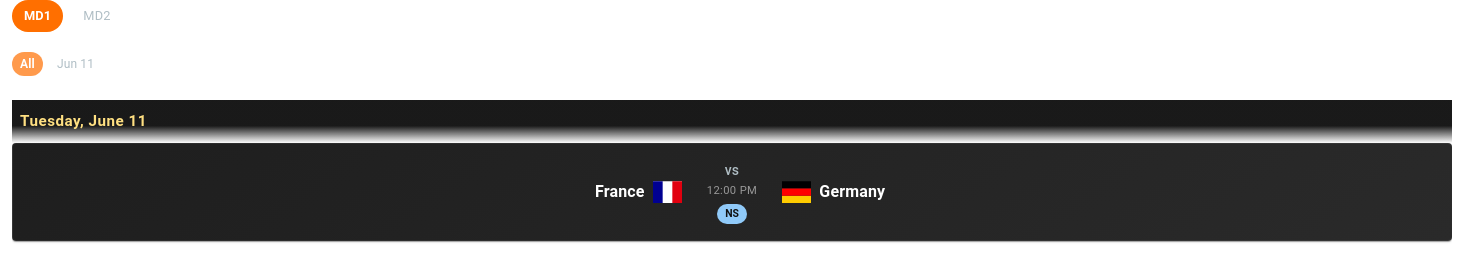
Scenario: SchedulePage › shows round empty state when no fixtures match round+date
This screenshot has width=1464, height=260.
Note: Click on MD2 (Group Stage - 2 — has only one fixture)
Click the button "MD2": (97, 16) [71,0,122,32]
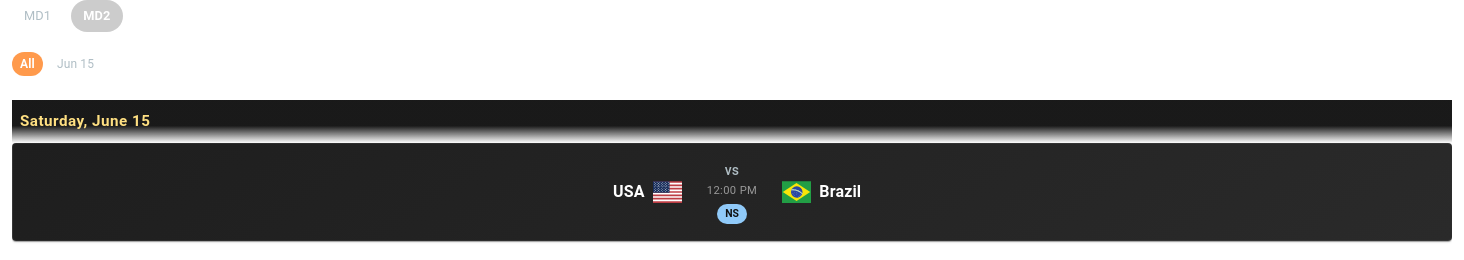
Expected: the text "USA" is shown, [613,180,645,204]
